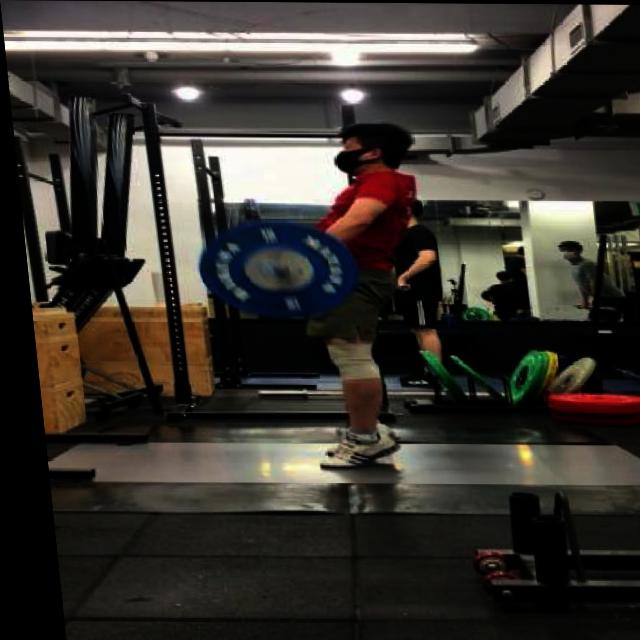barbell: (187, 214, 361, 326)
